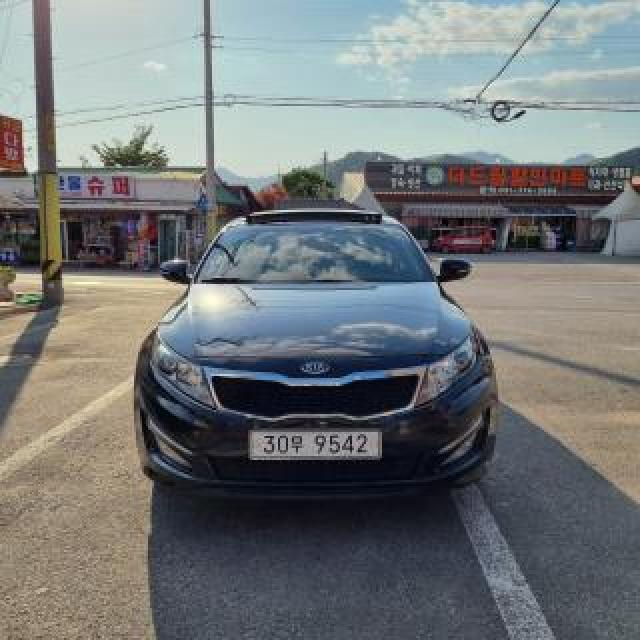car: (133, 201, 517, 509)
illegal_plate: (248, 424, 384, 467)
